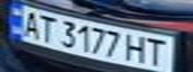1: (72, 23, 93, 53)
3: (54, 18, 78, 48)
7: (103, 28, 124, 60), (87, 25, 106, 55)
A: (15, 8, 45, 39)
H: (124, 33, 151, 64)
T: (142, 36, 172, 68), (33, 12, 60, 43)
